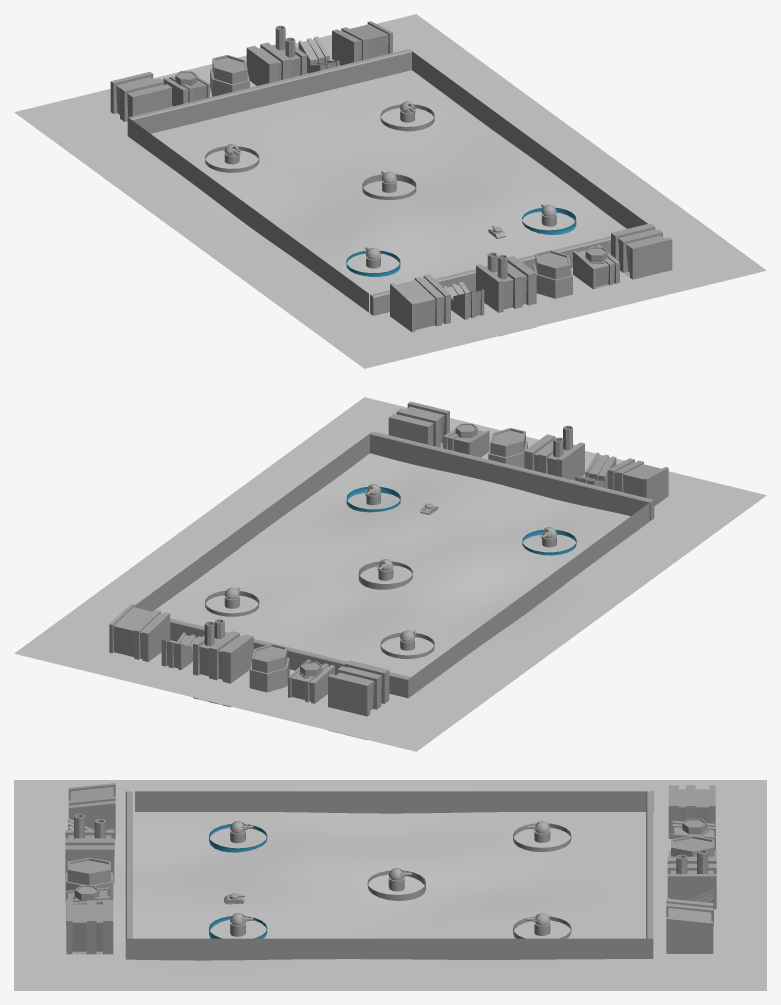
The model's file is TOUnity_CityRush.fbx.
3 renders of one model, top to bottom at view 1: azimuth 30°, elevation 25°; view 2: azimuth 150°, elevation 25°; view 3: azimuth 270°, elevation 25°, orthographic. The views are drawn at different scales.
Parts seen in each view (by area): view 1: pPlane1, pCube11, pPlane3, pPlane2, pCube8, pCube10, pCube5, pCube12, pCube17, pCube14, pCylinder15, pCube1 (+5 smaller); view 2: pPlane1, pCube1, pPlane3, pPlane2, pCube12, pCube17, pCube14, pCube10, pCube8, pCube11, pCube5, pCylinder18 (+5 smaller); view 3: pPlane1, pPlane2, pPlane3, pCube17, pCube10, pCube8, pCube12, pCube14, pCube5, pCylinder15, pCube1, pCube11 (+10 smaller).
Boxes of the visible parts, bbox=[...] form: pPlane1: bbox=[14, 14, 766, 368]; pCube11: bbox=[127, 49, 411, 137]; pPlane3: bbox=[127, 117, 368, 312]; pPlane2: bbox=[411, 51, 647, 228]; pCube8: bbox=[390, 274, 450, 332]; pCube10: bbox=[611, 223, 672, 279]; pCube5: bbox=[476, 256, 536, 336]; pCube12: bbox=[110, 71, 171, 121]; pCube17: bbox=[332, 21, 392, 65]; pCube14: bbox=[246, 42, 306, 85]; pCylinder15: bbox=[533, 250, 572, 298]; pCube1: bbox=[370, 236, 610, 315]; pPlane1: bbox=[14, 397, 766, 751]; pCube1: bbox=[370, 431, 654, 520]; pPlane3: bbox=[408, 503, 649, 697]; pPlane2: bbox=[134, 433, 370, 611]; pCube12: bbox=[328, 660, 389, 739]; pCube17: bbox=[109, 604, 170, 661]; pCube14: bbox=[193, 631, 253, 707]; pCube10: bbox=[388, 401, 449, 447]; pCube8: bbox=[607, 458, 668, 506]; pCube11: bbox=[170, 618, 411, 698]; pCube5: bbox=[524, 434, 584, 480]; pCylinder18: bbox=[249, 643, 289, 692]; pPlane1: bbox=[14, 780, 766, 990]; pPlane2: bbox=[131, 938, 649, 960]; pPlane3: bbox=[135, 791, 653, 813]; pCube17: bbox=[666, 898, 713, 953]; pCube10: bbox=[66, 900, 113, 954]; pCube8: bbox=[68, 783, 115, 839]; pCube12: bbox=[668, 785, 715, 838]; pCube14: bbox=[667, 856, 716, 909]; pCube5: bbox=[65, 830, 114, 882]; pCylinder15: bbox=[65, 857, 113, 901]; pCube1: bbox=[125, 791, 132, 959]; pCube11: bbox=[646, 791, 653, 958].
Size of the model in its own units: 22.93 by 4.16 by 34.6.
